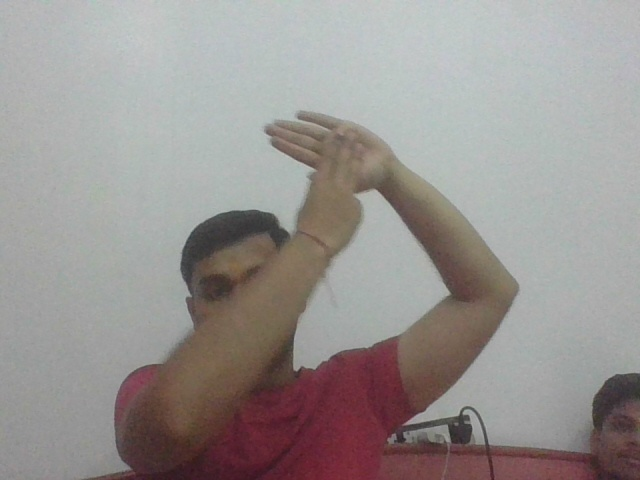M: (259, 105, 380, 212)
